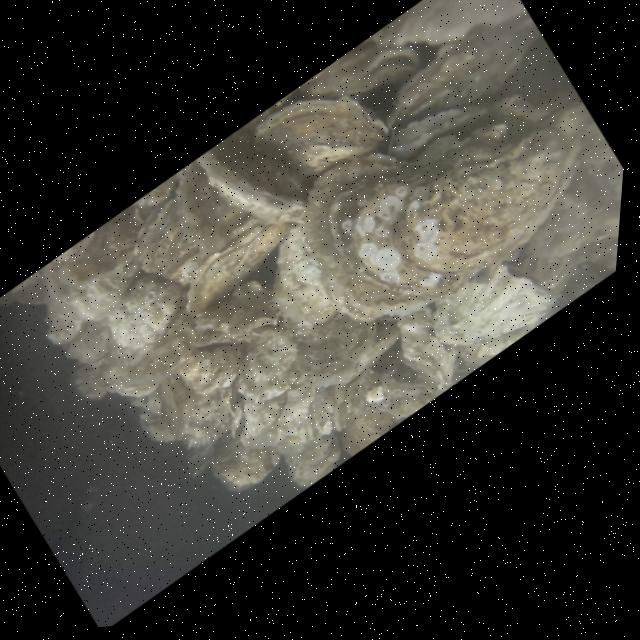Oyster-Closed: (263, 15, 635, 369), (363, 0, 557, 158), (237, 53, 404, 219), (417, 233, 570, 378), (188, 113, 320, 261), (275, 277, 410, 405), (30, 212, 159, 341), (166, 205, 300, 319), (242, 218, 358, 345), (173, 264, 292, 377), (113, 184, 224, 303), (154, 143, 262, 261), (92, 260, 197, 361), (219, 314, 320, 416), (90, 317, 191, 415), (227, 369, 304, 445), (53, 308, 122, 377)
Oyster-Indeterminate: (147, 345, 254, 459), (335, 340, 441, 445), (379, 296, 475, 406), (231, 370, 335, 461), (195, 407, 291, 505), (172, 323, 257, 407), (270, 414, 353, 496)
Oyster-Open: (377, 43, 560, 210), (299, 17, 430, 136)
